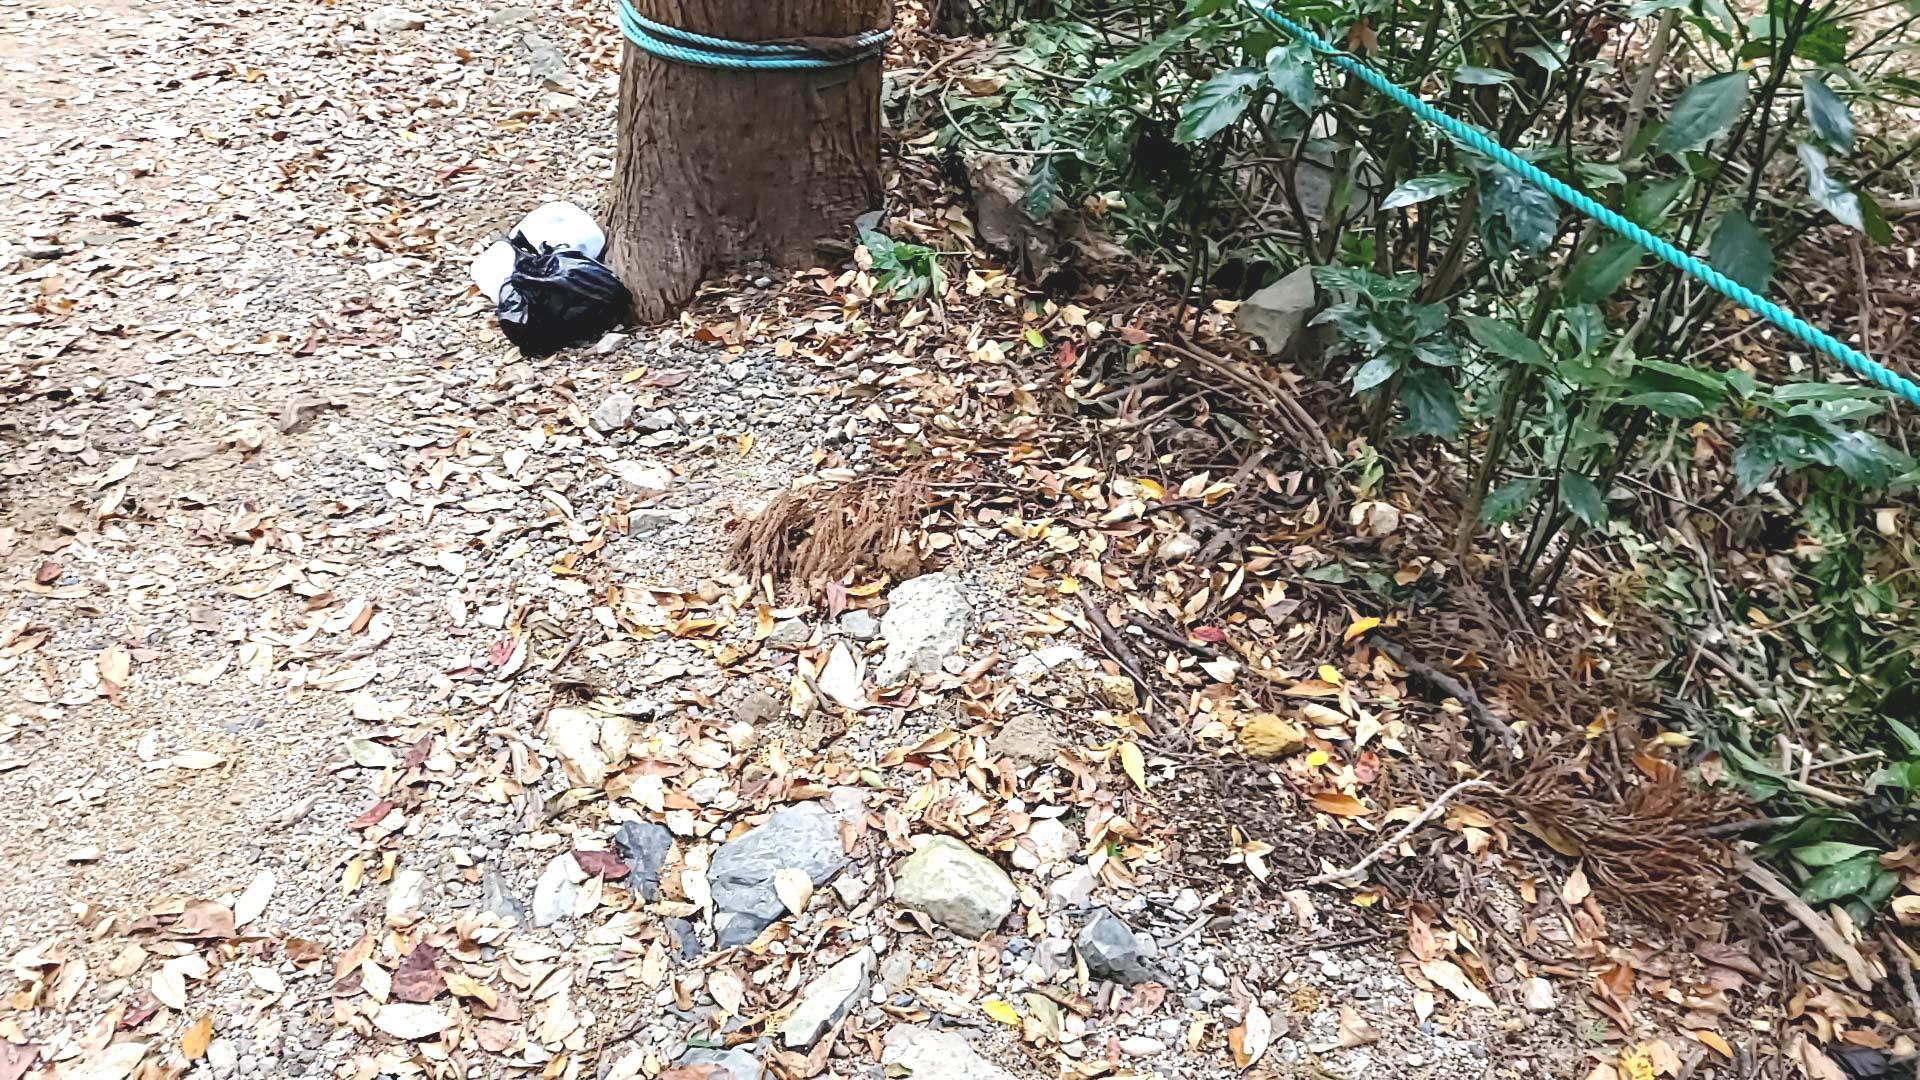black_bag: (495, 228, 636, 357)
white_bag: (462, 199, 608, 307)
